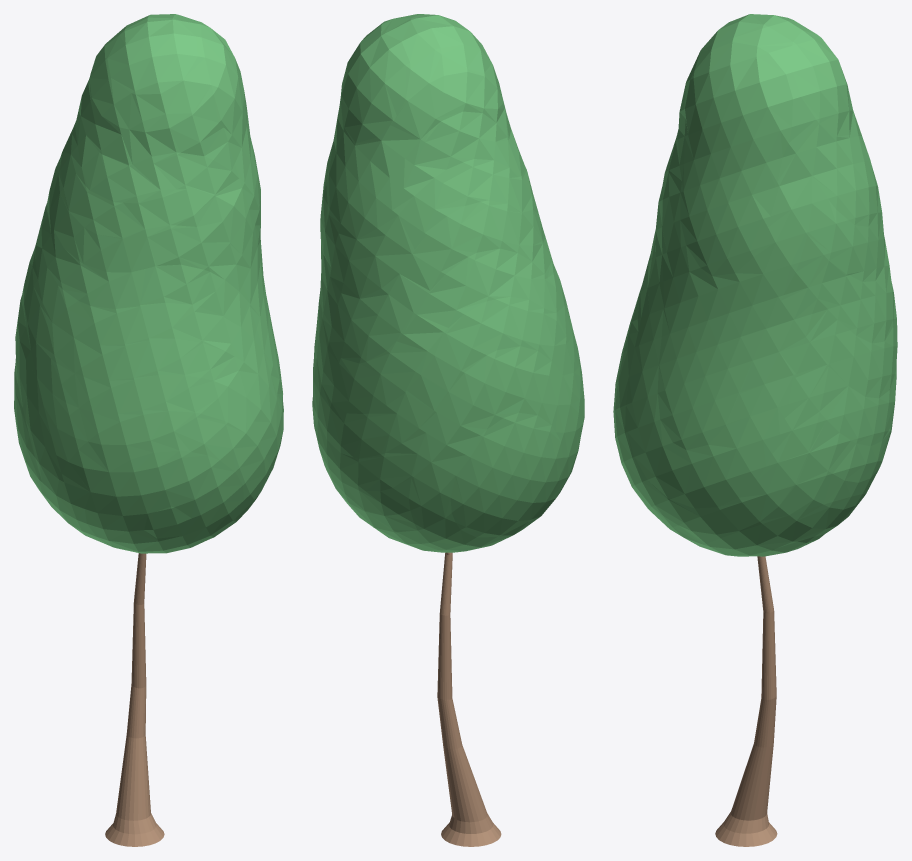
Rendered from Cartoon_Trees_Pack_Tree_10.glb.
3 renders of one model, left to right at view 1: azimuth 30°, elevation 25°; view 2: azimuth 150°, elevation 25°; view 3: azimuth 270°, elevation 25°, orthographic. The views are drawn at different scales.
Parts seen in each view (by area): view 1: Canopy, Trunk; view 2: Canopy, Trunk; view 3: Canopy, Trunk.
Boxes of the visible parts, x1,y1,x2,y2 form: Canopy: [14, 14, 283, 553]; Trunk: [105, 553, 164, 846]; Canopy: [312, 14, 584, 552]; Trunk: [437, 552, 501, 846]; Canopy: [613, 14, 897, 556]; Trunk: [715, 556, 777, 846].
Size of the model in its own units: 299 by 978 by 302.
